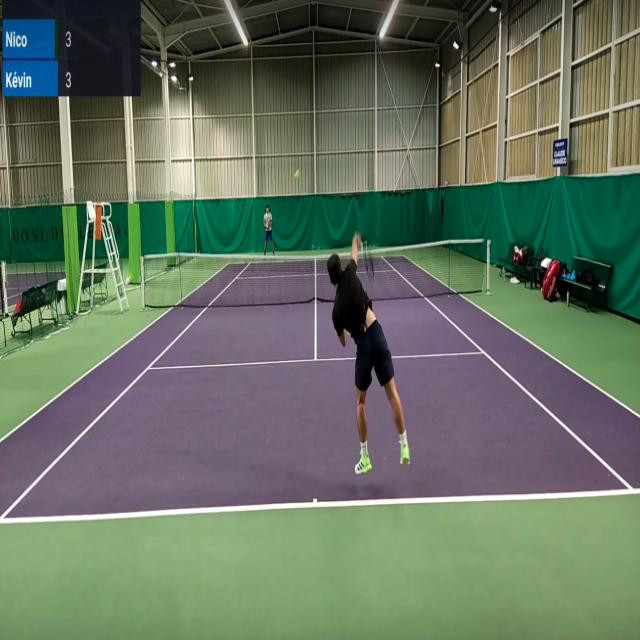ball: (294, 168, 300, 180)
